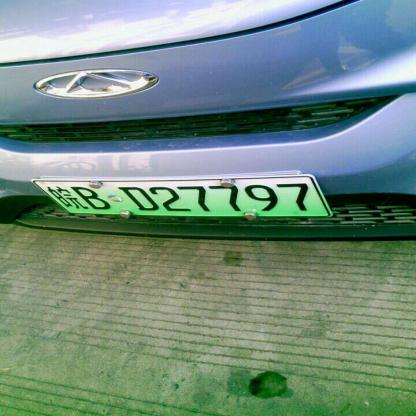lp: (33, 178, 68, 215)
